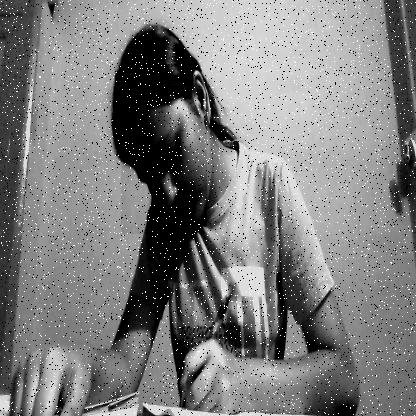Distracted: (121, 76, 207, 234)
